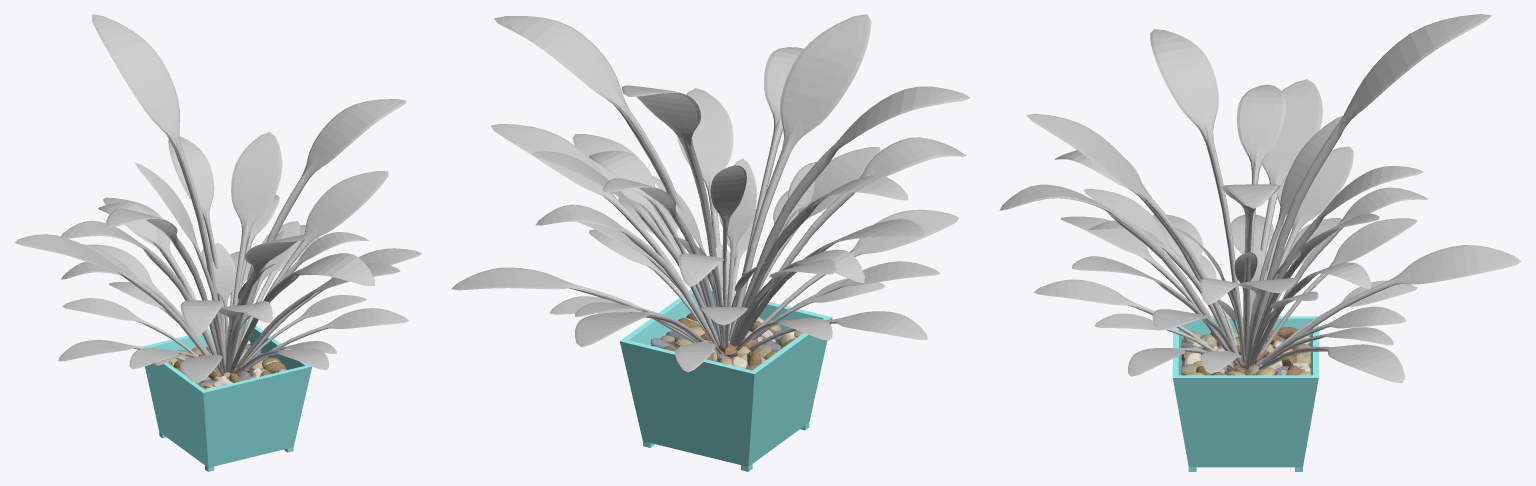
File: mediumIndoorPlant.obj
3 views of the same model, side by side, from view 1: azimuth 30°, elevation 25°; view 2: azimuth 150°, elevation 25°; view 3: azimuth 270°, elevation 25° (orthographic). The views are drawn at different scales.
Parts seen in each view (by area): view 1: Leaf_Plane.029, Pot_3_Plane.062, Rock_1_Plane.002; view 2: Leaf_Plane.029, Pot_3_Plane.062, Rock_1_Plane.002; view 3: Leaf_Plane.029, Pot_3_Plane.062, Rock_1_Plane.002.
Boxes of the visible parts, x1,y1,x2,y2 form: Leaf_Plane.029: [14, 14, 422, 383]; Pot_3_Plane.062: [143, 321, 311, 471]; Rock_1_Plane.002: [168, 340, 286, 389]; Leaf_Plane.029: [451, 14, 970, 372]; Pot_3_Plane.062: [620, 287, 832, 471]; Rock_1_Plane.002: [650, 307, 803, 370]; Leaf_Plane.029: [999, 14, 1521, 383]; Pot_3_Plane.062: [1172, 316, 1318, 471]; Rock_1_Plane.002: [1181, 327, 1310, 375].
Size of the model in its own units: 72.58 by 67.29 by 76.45.
